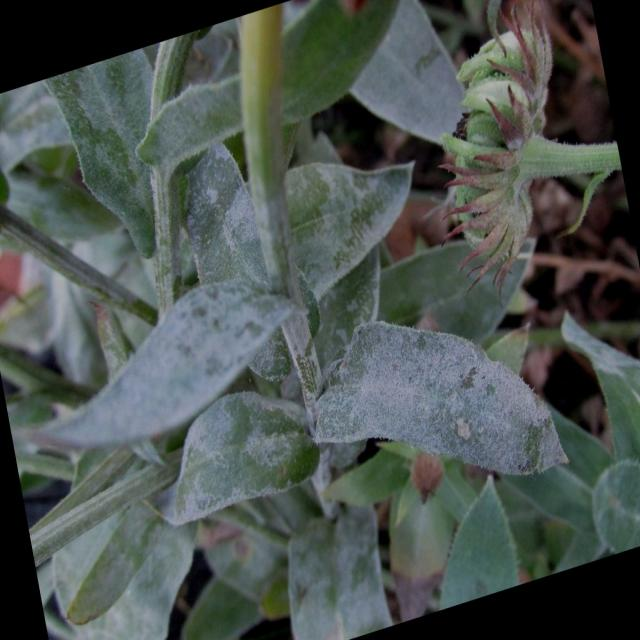Powdery Mildew: (59, 110, 273, 500), (313, 318, 570, 478)
